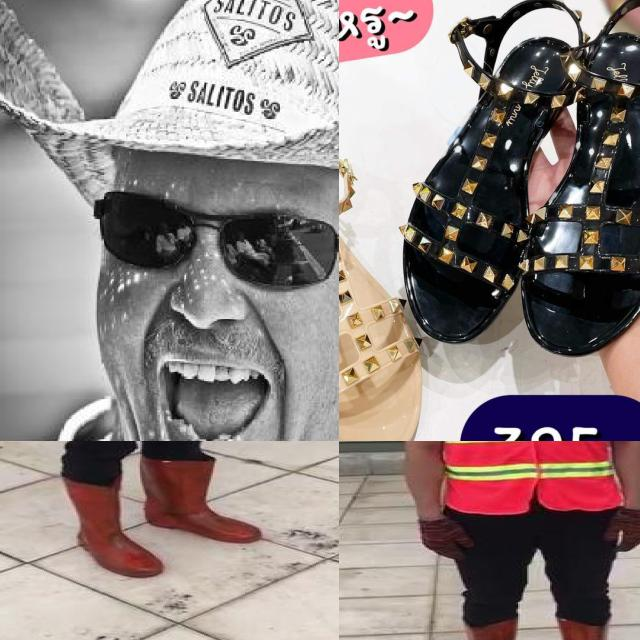Sandals: (367, 0, 640, 398), (339, 113, 439, 441)
boots: (140, 455, 261, 544), (64, 477, 162, 578), (560, 618, 628, 640), (457, 620, 518, 640)
face_nomask: (96, 188, 339, 441)
glasses: (84, 207, 339, 313)
hand_glove: (416, 516, 474, 560), (603, 507, 640, 550)
head_nohelmet: (47, 0, 339, 200)
person: (391, 441, 640, 640), (0, 441, 277, 596)
vest: (429, 441, 621, 514)
